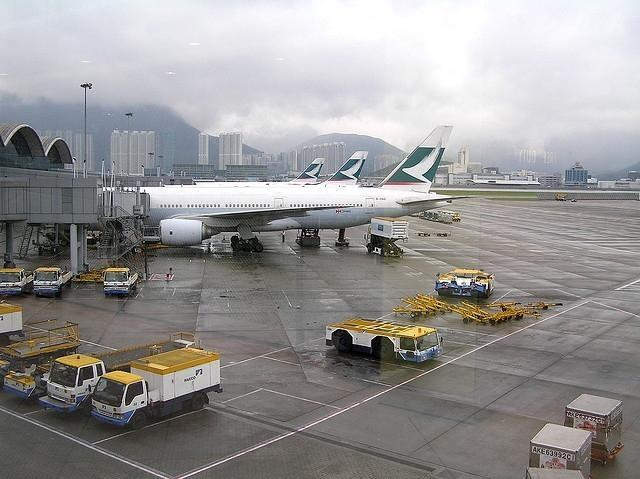truck: (39, 332, 200, 410), (90, 346, 224, 429), (321, 316, 446, 366), (0, 318, 82, 386), (3, 356, 69, 398), (363, 216, 409, 258), (433, 270, 495, 300), (30, 267, 74, 298), (0, 300, 24, 347), (102, 267, 138, 298), (0, 268, 31, 294)
